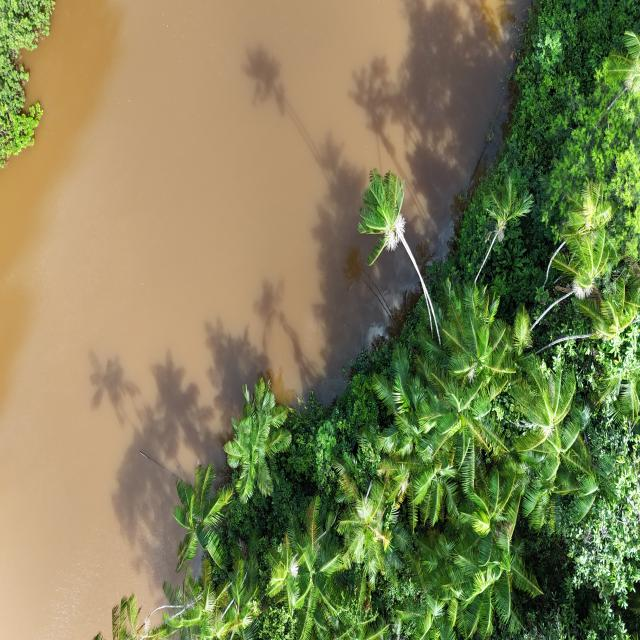vegetation: (93, 1, 639, 638)
